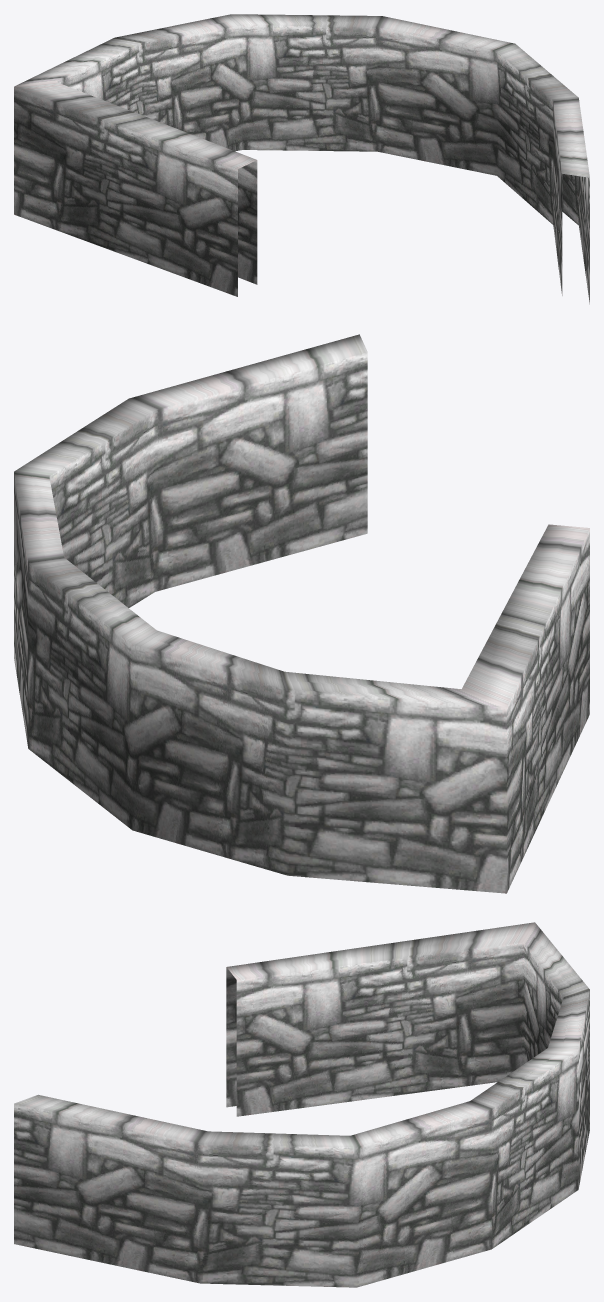
File: HTOWN01_BAGENDTERRACE2.fbx
3 renders of one model, top to bottom at view 1: azimuth 30°, elevation 25°; view 2: azimuth 150°, elevation 25°; view 3: azimuth 270°, elevation 25°, orthographic. The views are drawn at different scales.
Visible parts, largest first — view 1: HTOWN01_BAGENDTERRACE2; view 2: HTOWN01_BAGENDTERRACE2; view 3: HTOWN01_BAGENDTERRACE2.
Part boxes in pixels (x1,y1,x2,y2): HTOWN01_BAGENDTERRACE2: (14,14,589,304); HTOWN01_BAGENDTERRACE2: (14,334,589,893); HTOWN01_BAGENDTERRACE2: (14,922,589,1287).
Bounding box in the file's own units: 43524 × 12675 × 47104.
1 material, 1 textured.
